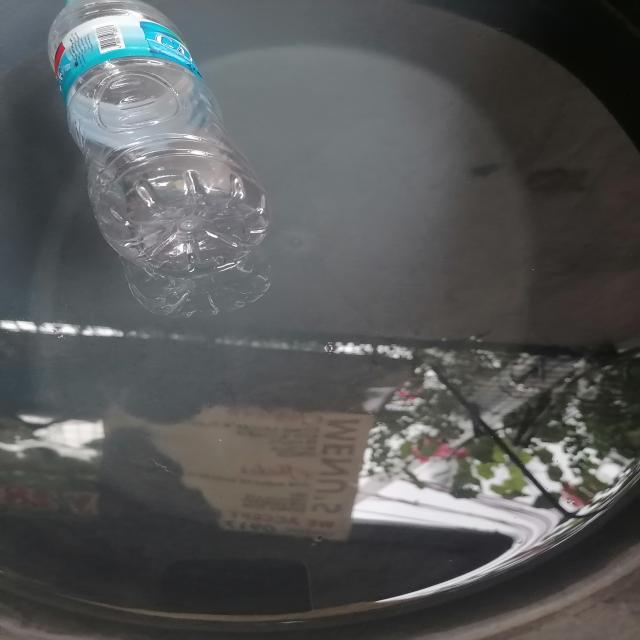Plastic Bottle: (48, 0, 270, 316)
